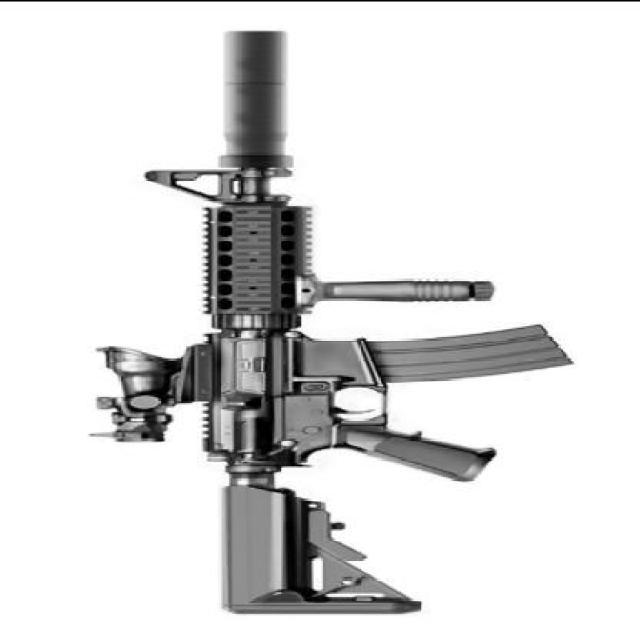weapon: (88, 28, 574, 616)
